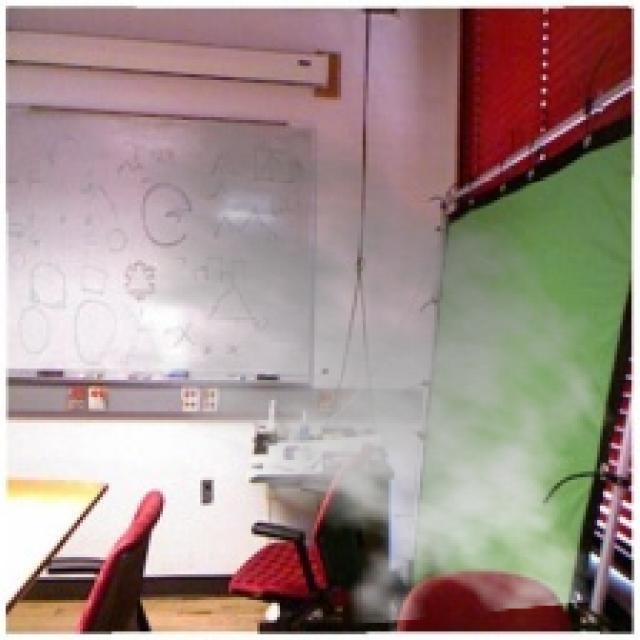Smoke: (77, 109, 632, 626)
